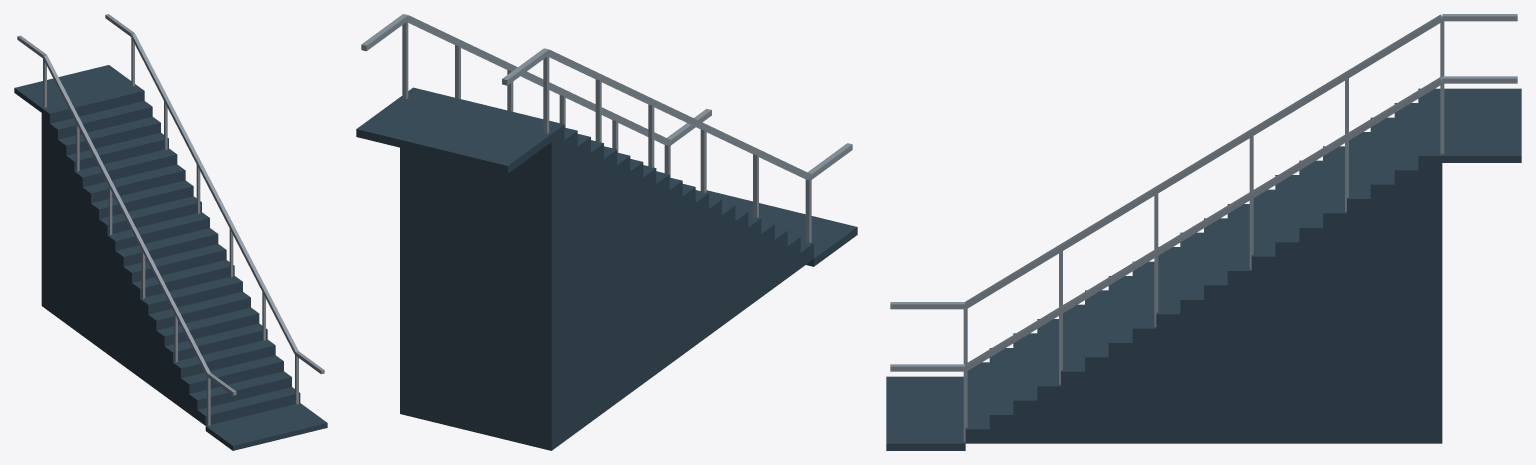
File: stairs.v1.glb
3 views of the same model, side by side, from view 1: azimuth 30°, elevation 25°; view 2: azimuth 150°, elevation 25°; view 3: azimuth 270°, elevation 25° (orthographic). The views are drawn at different scales.
Parts seen in each view (by area): view 1: mesh_step_19, mesh_step_17, mesh_lower_landing, mesh_step_18, mesh_step_15, mesh_step_16, mesh_step_14, mesh_step_12, mesh_step_11, mesh_step_13, mesh_step_10, mesh_step_09 (+12 smaller); view 2: mesh_step_19, mesh_upper_landing, mesh_step_18, mesh_step_17, mesh_step_16, mesh_step_14, mesh_step_15, mesh_step_13, mesh_step_12, mesh_lower_landing, mesh_step_11, mesh_step_10 (+15 smaller); view 3: mesh_step_19, mesh_step_18, mesh_step_17, mesh_step_16, mesh_step_15, mesh_step_14, mesh_step_13, mesh_step_12, mesh_lower_landing, mesh_upper_landing, mesh_step_11, mesh_step_10 (+12 smaller).
Part boxes in pixels (box(x1,y1,x2,y2)): mesh_step_19: box(41, 85, 144, 311); mesh_step_17: box(58, 116, 160, 323); mesh_lower_landing: box(205, 403, 327, 450); mesh_step_18: box(50, 101, 152, 317); mesh_step_15: box(74, 148, 177, 335); mesh_step_16: box(66, 132, 168, 329); mesh_step_14: box(82, 164, 185, 341); mesh_step_12: box(99, 196, 201, 353); mesh_step_11: box(107, 212, 209, 359); mesh_step_13: box(91, 180, 193, 347); mesh_step_10: box(115, 228, 218, 365); mesh_step_09: box(123, 244, 226, 371); mesh_step_19: box(400, 87, 564, 450); mesh_upper_landing: box(356, 97, 551, 173); mesh_step_18: box(564, 127, 577, 440); mesh_step_17: box(577, 134, 590, 431); mesh_step_16: box(591, 140, 603, 421); mesh_step_14: box(617, 152, 630, 402); mesh_step_15: box(604, 146, 616, 412); mesh_step_13: box(630, 159, 643, 392); mesh_step_12: box(643, 165, 656, 383); mesh_lower_landing: box(706, 190, 857, 266); mesh_step_11: box(656, 171, 669, 373); mesh_step_10: box(669, 177, 682, 363); mesh_step_19: box(1418, 88, 1442, 443); mesh_step_18: box(1394, 103, 1418, 443); mesh_step_17: box(1370, 117, 1394, 443); mesh_step_16: box(1347, 132, 1370, 443); mesh_step_15: box(1323, 146, 1346, 443); mesh_step_14: box(1299, 160, 1322, 443); mesh_step_13: box(1275, 175, 1299, 443); mesh_step_12: box(1251, 189, 1275, 443); mesh_lower_landing: box(886, 376, 965, 450); mesh_upper_landing: box(1442, 88, 1521, 162); mesh_step_11: box(1227, 204, 1251, 443); mesh_step_10: box(1204, 218, 1227, 443).
Size of the model in its own units: 2 by 5.15 by 8.
